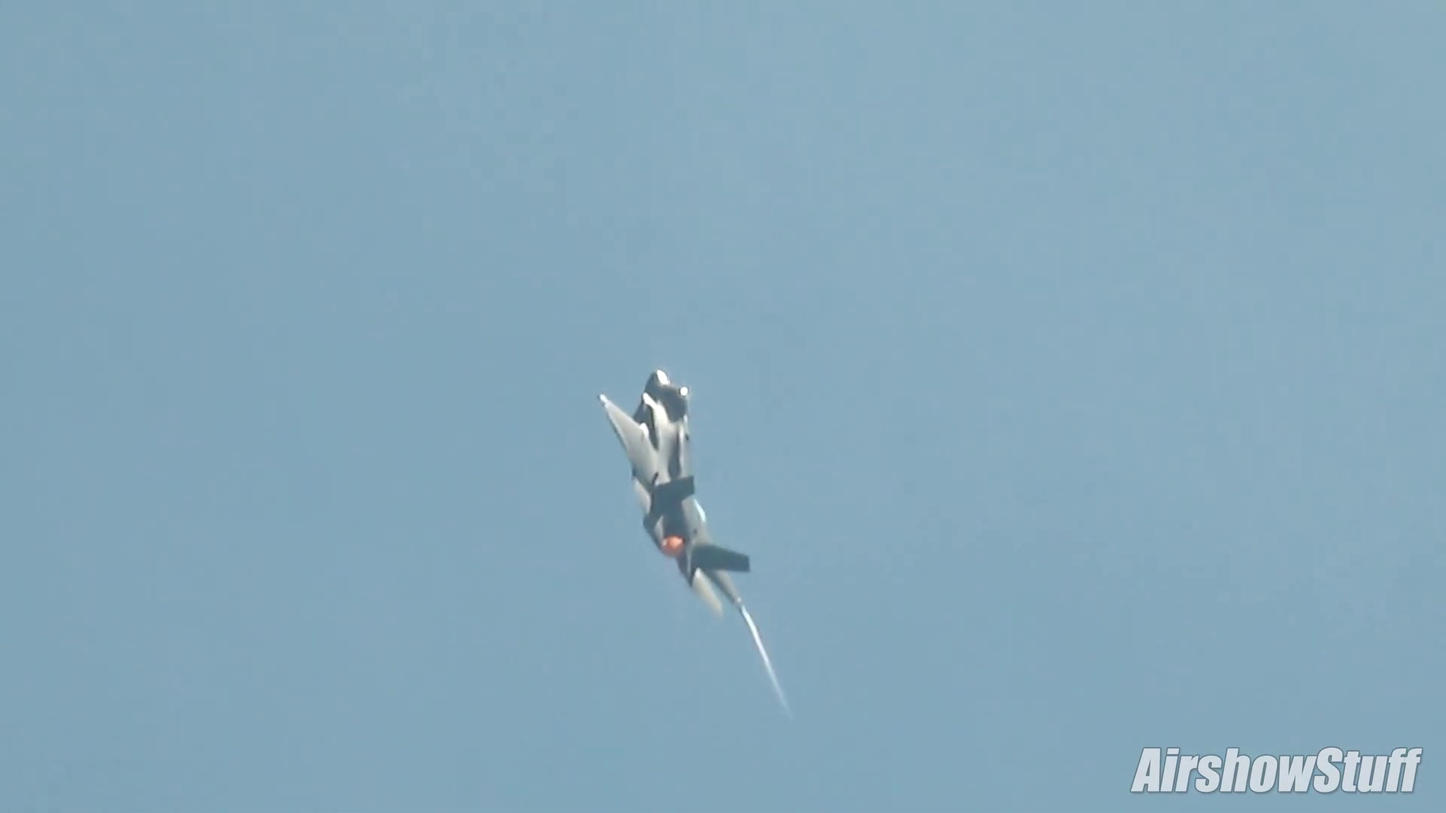F35: (587, 356, 763, 628)
